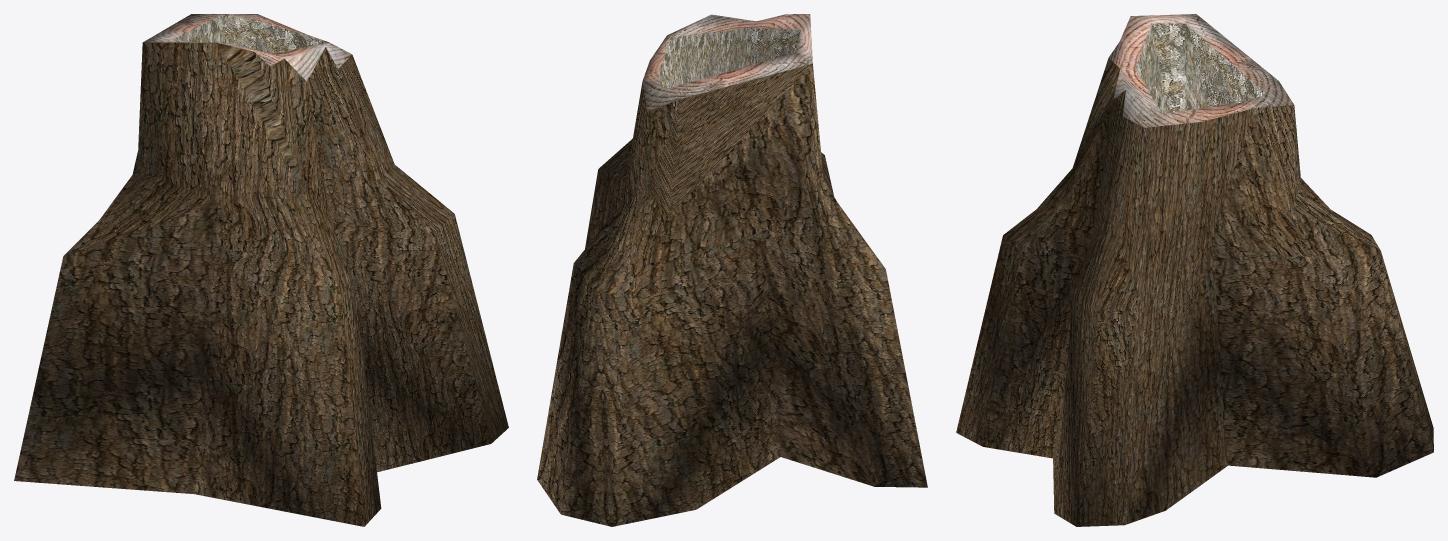
The model's file is decd_oakstump_sm_l1.fbx.
3 views of the same model, side by side, from view 1: azimuth 30°, elevation 25°; view 2: azimuth 150°, elevation 25°; view 3: azimuth 270°, elevation 25° (orthographic). The views are drawn at different scales.
Visible parts, largest first — view 1: mesh_node; view 2: mesh_node; view 3: mesh_node.
Boxes of the visible parts, <box> form: mesh_node: <box>14,14,508,526</box>; mesh_node: <box>537,14,927,526</box>; mesh_node: <box>956,14,1433,526</box>.
Size of the model in its own units: 2.57 by 2.46 by 2.71.
